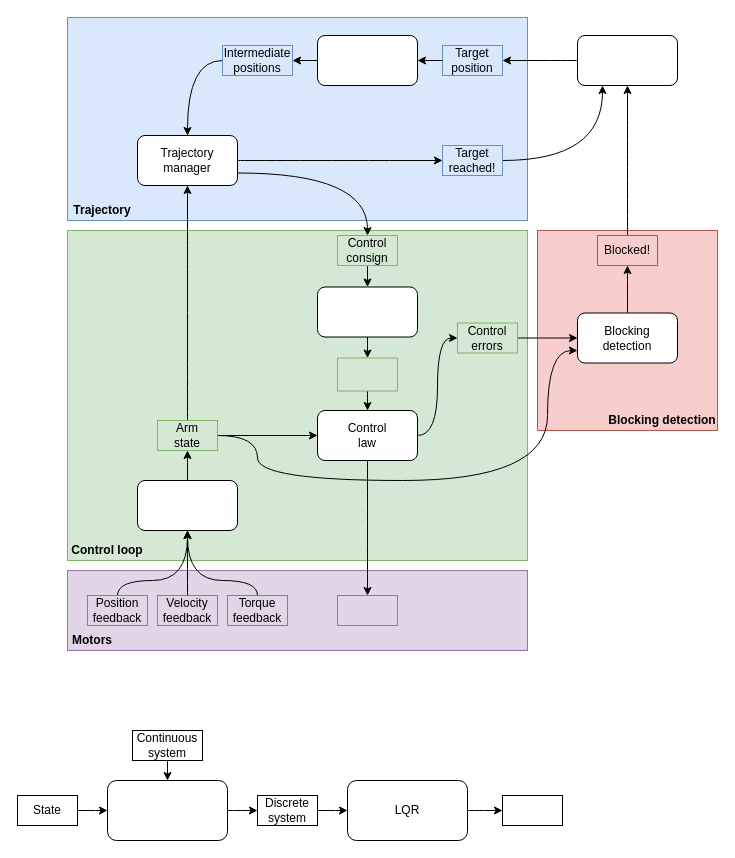
Image size: 735x858. Some labels were removed from this diagram. Here are the shapes that lost their labels. From the top down, the centre of each, then its label:
At (x=367, y=60): "Path planner".
At (x=627, y=60): "Main".
At (x=367, y=311): "Consign filter".
At (x=367, y=374): "Filtered consign".
At (x=187, y=505): "State estimator".
At (x=367, y=610): "Torque inputs".
At (x=167, y=810): "Discretize".
At (x=532, y=810): "Gain".
